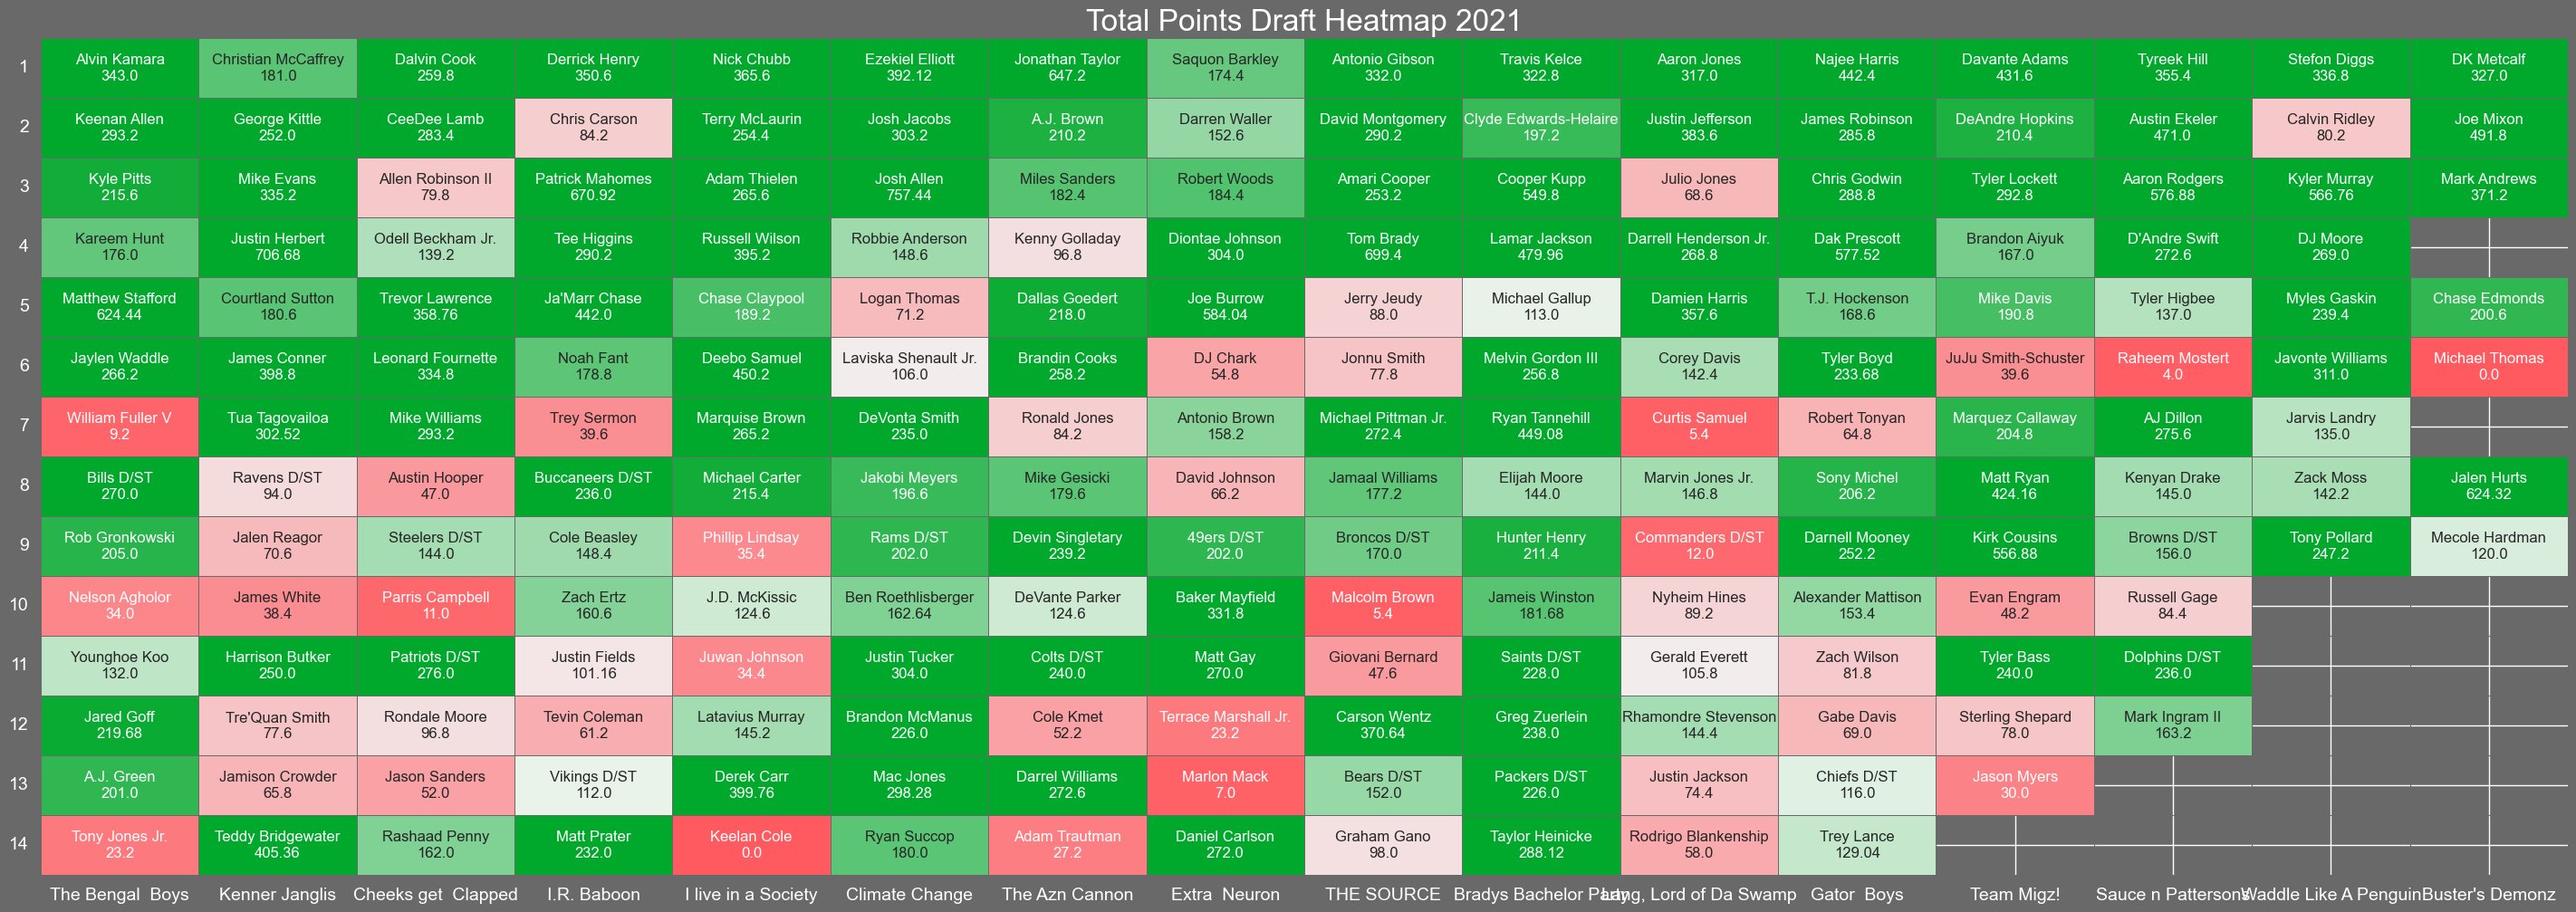

What the dashboard file says about the page in this screenshot:
{"tool":"powerbi","page":{"name":"Page 3","canvas":[1280,720],"ordinal":2},"visuals":[{"type":"pivotTable","fields":{"Rows":["Query1.round","Query1.playername"],"Columns":["Query1.pick"],"Values":["Sum(Query1.total)"]},"box":[0,0,1280,720],"z":1}]}

Visuals, with their boxes on the page's 1280x720 design canvas (x1, y1, x2, y2). These are canvas units, not pixel positions in the 2576x912 screenshot, which may show the page scaled, cropped or inside an application window:
pivotTable - Query1.round x Query1.playername: region(0, 0, 1280, 720)
